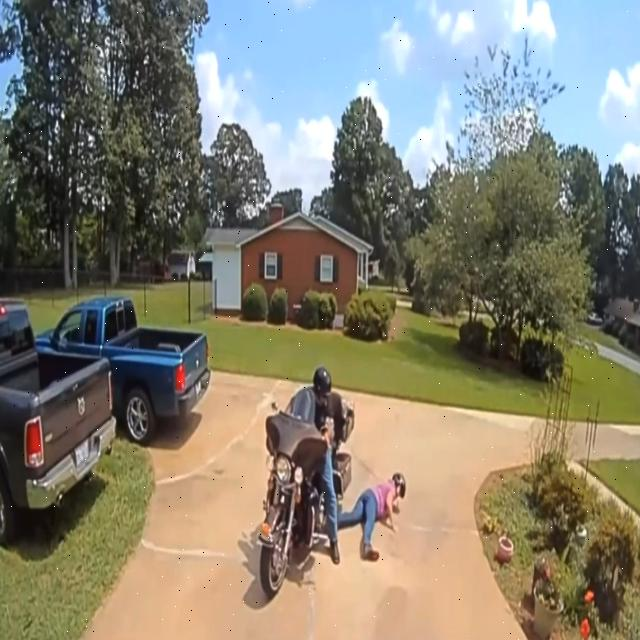fallen: (338, 473, 406, 560)
